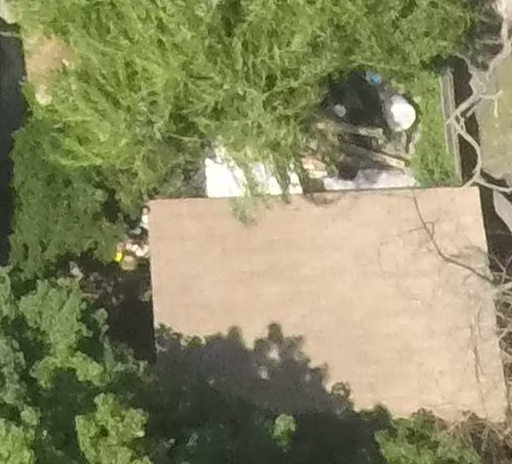container: (114, 253, 139, 275)
trash: (312, 84, 418, 182)
